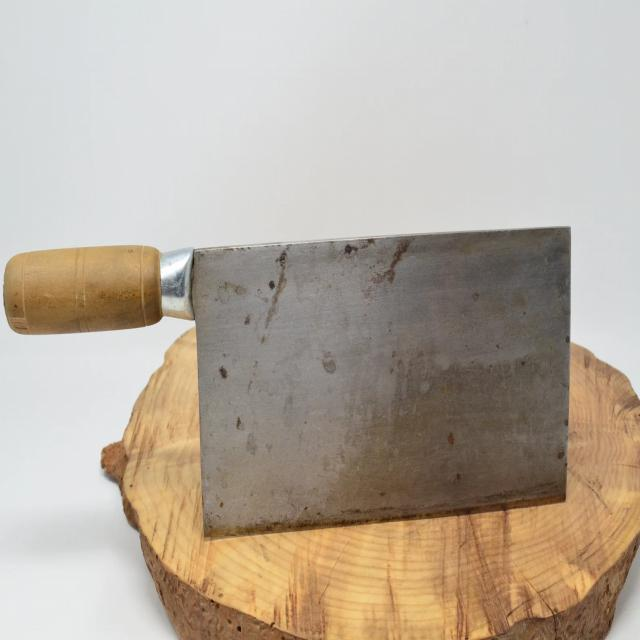cleaver: (5, 207, 593, 545)
